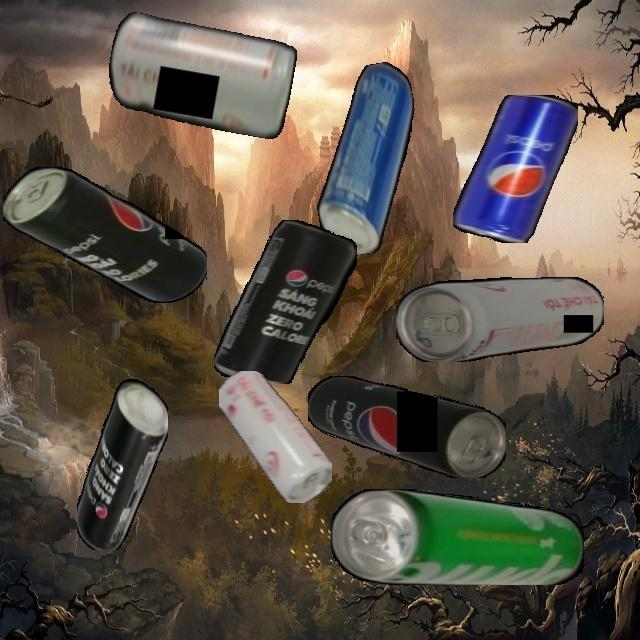debris: (295, 59, 438, 260), (2, 167, 207, 303), (102, 10, 299, 141), (331, 488, 584, 585), (214, 219, 357, 384), (307, 376, 506, 478), (452, 95, 578, 243), (396, 276, 604, 362), (76, 373, 168, 550), (219, 370, 332, 503)
